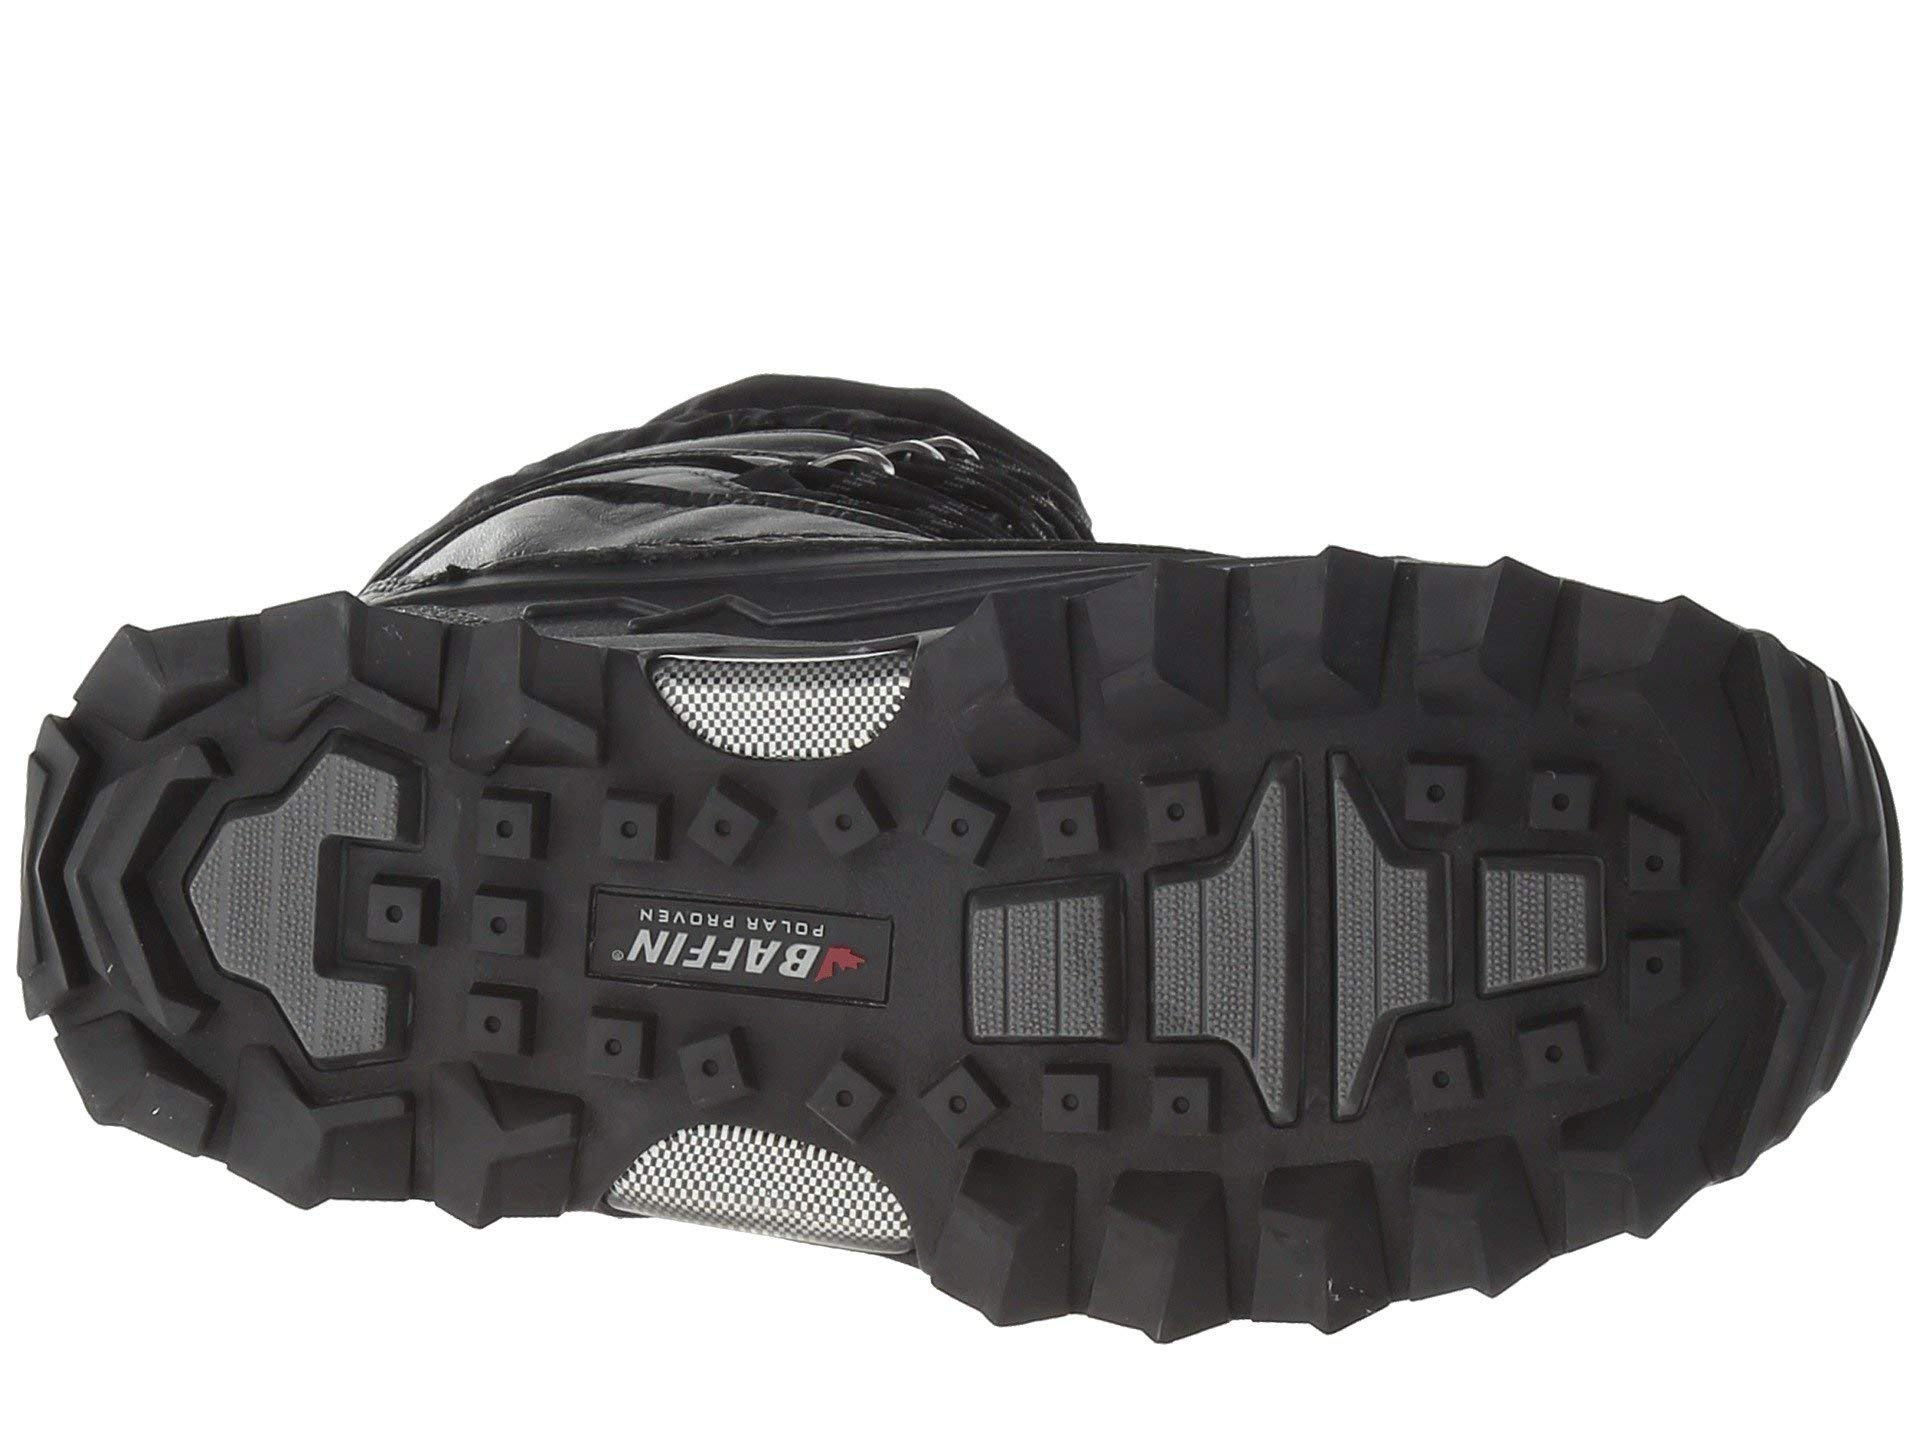circle: (434, 989, 1259, 1184), (1379, 753, 1704, 1100), (444, 761, 1244, 873)
quad: (434, 989, 1259, 1184), (1379, 753, 1704, 1100), (444, 761, 1244, 873)
